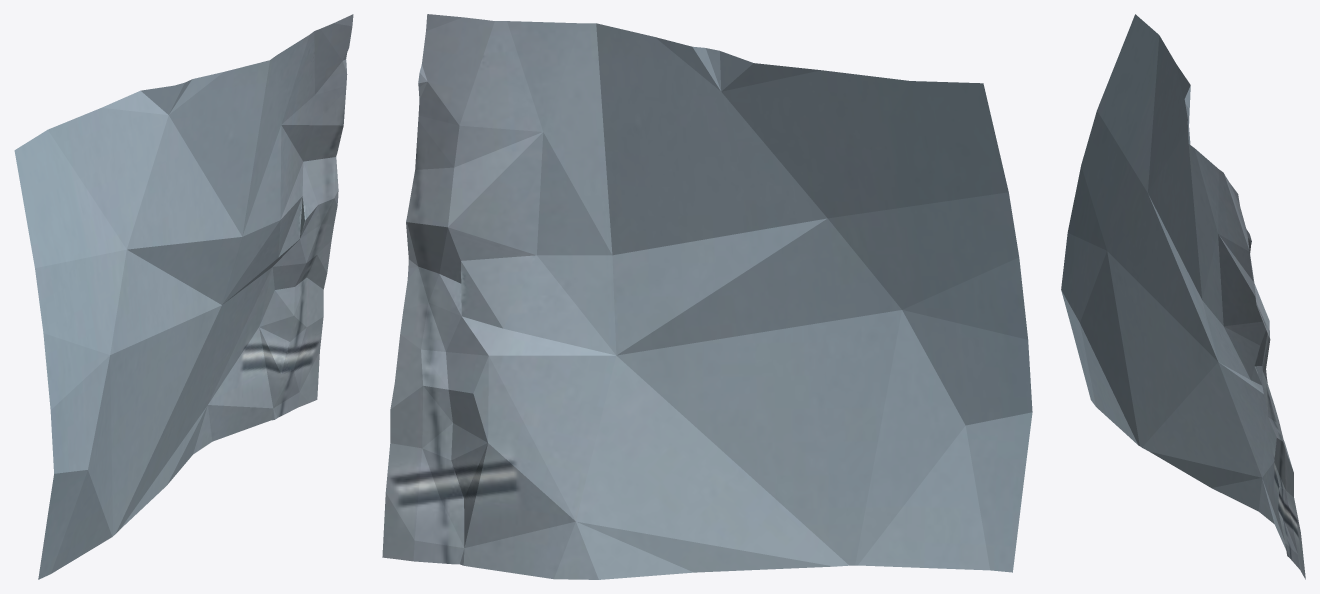
The picture shows the model from 3 angles, left to right: view 1: azimuth 30°, elevation 25°; view 2: azimuth 150°, elevation 25°; view 3: azimuth 270°, elevation 25°; orthographic projection. The views are drawn at different scales.
Bounding box in the file's own units: 0.8373 × 0.8373 × 0.4813.
3 materials, 3 textured.
